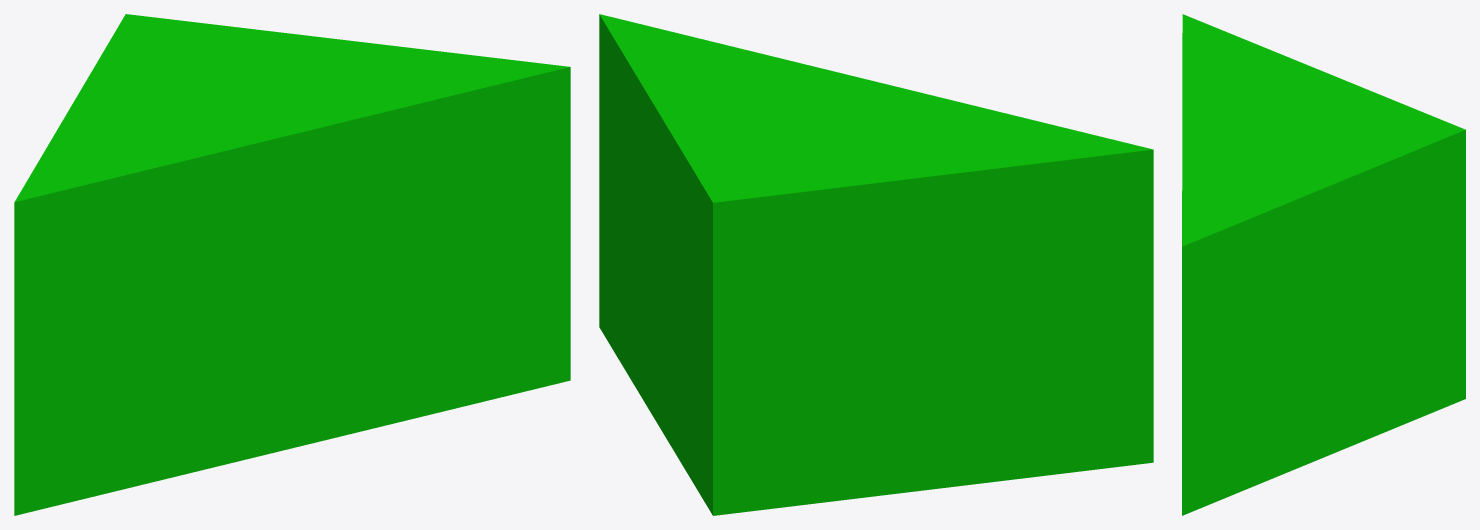
Rendered from UCXIsoscelesL_low.fbx.
3 views of the same model, side by side, from view 1: azimuth 30°, elevation 25°; view 2: azimuth 150°, elevation 25°; view 3: azimuth 270°, elevation 25° (orthographic). The views are drawn at different scales.
Visible parts, largest first — view 1: UCX_IsoscelesL_low_00; view 2: UCX_IsoscelesL_low_00; view 3: UCX_IsoscelesL_low_00.
Boxes of the visible parts, box(x1,y1,x2,y2) form: UCX_IsoscelesL_low_00: box(14, 14, 570, 515); UCX_IsoscelesL_low_00: box(599, 14, 1153, 515); UCX_IsoscelesL_low_00: box(1182, 14, 1465, 515).
Bounding box in the file's own units: 0.0832 × 0.0449 × 0.0429.
